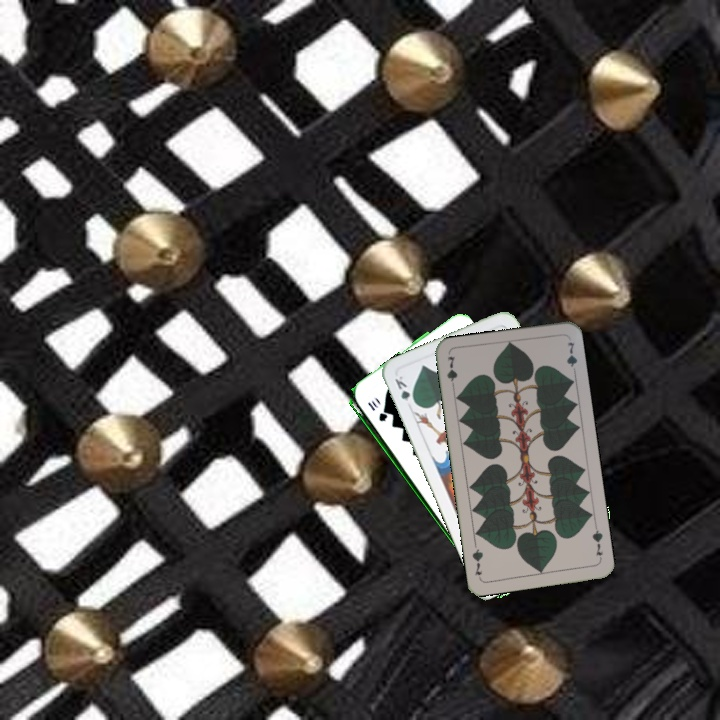G10: (363, 398, 388, 424)
G7: (443, 352, 460, 393), (588, 522, 605, 563)
GK: (391, 372, 418, 410)
